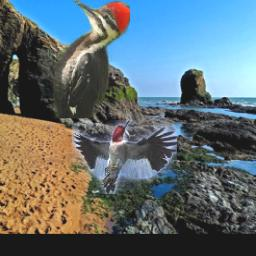Woodpecker: (39, 0, 131, 118), (73, 120, 178, 194)
